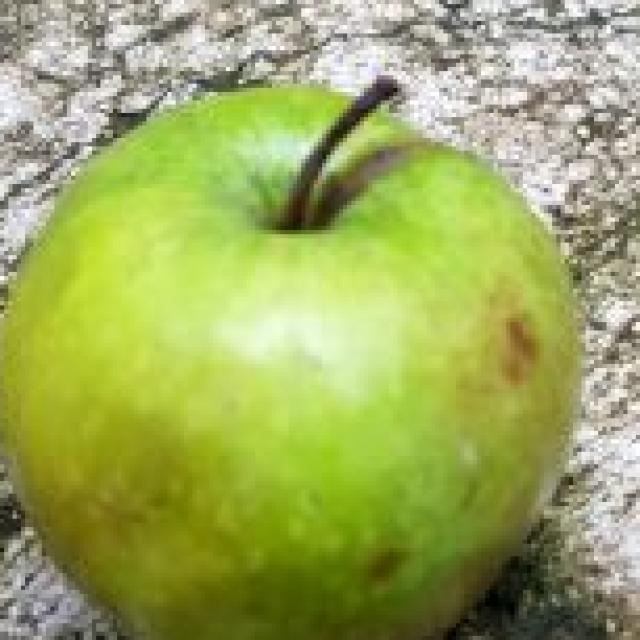Good_Apple 10-21 days: (0, 75, 577, 640)
